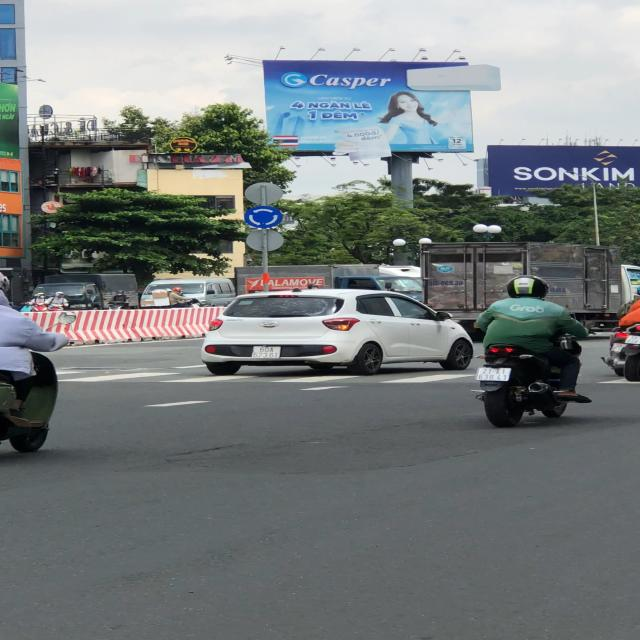Bien bao noi giao nhau chay theo vong xuyen: (243, 205, 283, 229)
